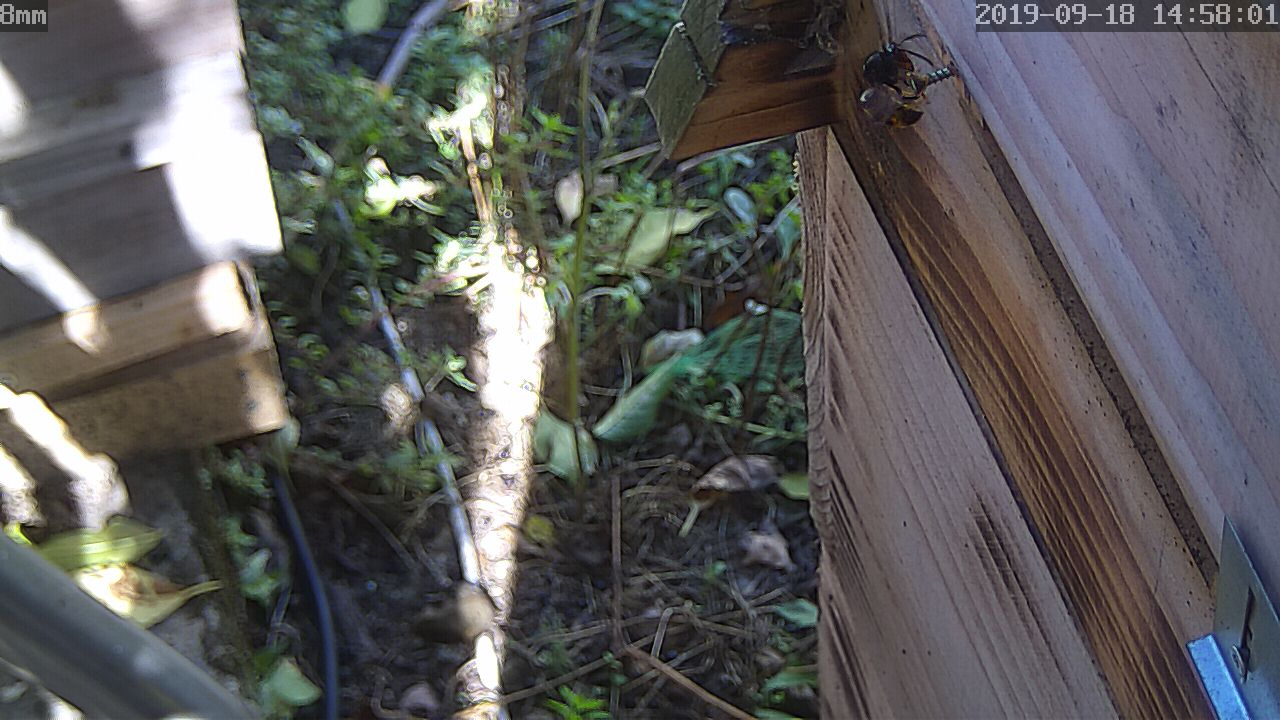hornet: (42, 0, 1146, 720)
